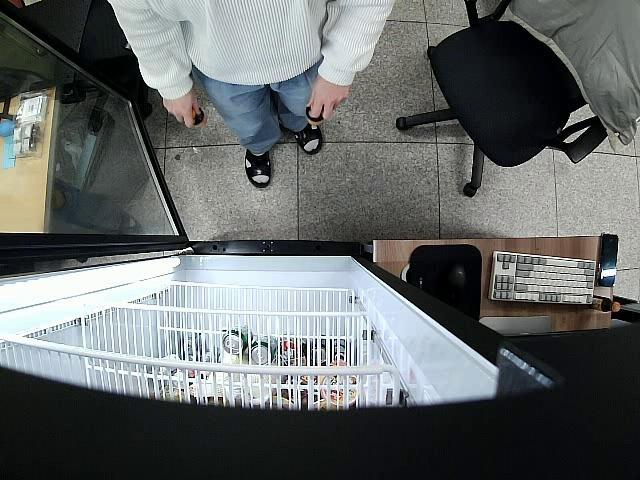17_vita500: (306, 104, 326, 126), (188, 108, 206, 127)
